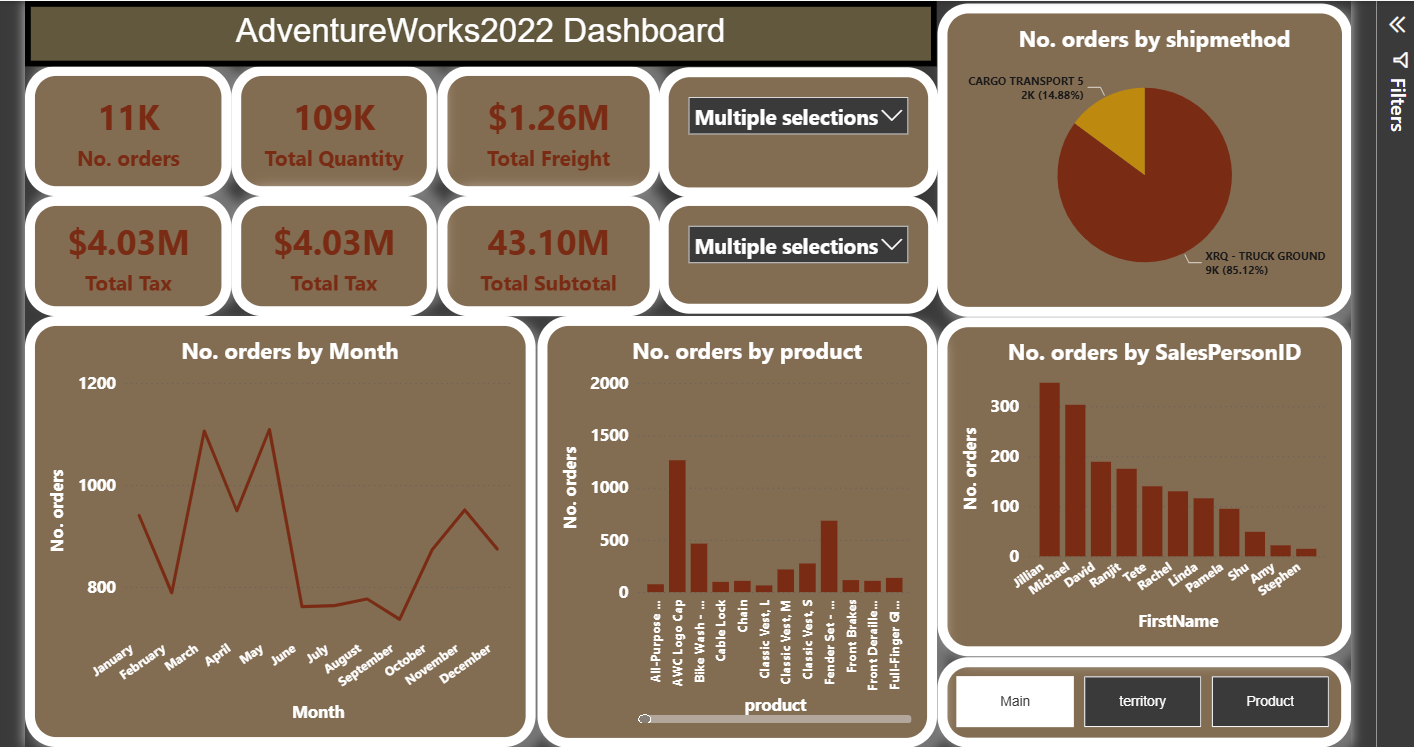

What the dashboard file says about the page in this screenshot:
{"tool":"powerbi","page":{"name":"Main","canvas":[1280,720],"ordinal":0},"visuals":[{"type":"card","fields":{"Values":["Mymeasures.Total Tax"]},"box":[0,188.3,199.4,115.7],"z":0},{"type":"card","fields":{"Values":["Mymeasures.No. orders"]},"box":[0,62.8,199.4,125.6],"z":1000},{"type":"card","fields":{"Values":["Mymeasures.Total Freight"]},"box":[397.6,62.8,214.2,125.6],"z":2000},{"type":"card","fields":{"Values":["Mymeasures.Total Quantity"]},"box":[199.4,62.8,198.2,125.6],"z":3000},{"type":"card","fields":{"Values":["Mymeasures.Total Subtotal"]},"box":[397.6,188.3,214.2,115.7],"z":4000},{"type":"card","fields":{"Values":["Mymeasures.Total Tax"]},"box":[199.4,188.3,198.2,115.7],"z":5000},{"type":"lineChart","fields":{"Y":["Mymeasures.No. orders"],"Category":["Dates.Date.Variation.Date Hierarchy.Month"]},"box":[0,304.1,492.4,416.1],"z":6000},{"type":"pieChart","fields":{"Y":["Mymeasures.No. orders"],"Category":["ShipMethod.shipmethod"]},"box":[880.3,2.6,399.9,302.2],"z":7000},{"type":"slicer","fields":{"Values":["Dates.Year"]},"box":[611.1,188.7,269.3,113.5],"z":8000},{"type":"slicer","fields":{"Values":["Territory.territory"]},"box":[611.1,63.4,269.3,125.4],"z":9000},{"type":"pageNavigator","box":[880.8,632.9,399.5,87.5],"z":10000},{"type":"columnChart","title":"No. orders by SalesPersonID","fields":{"Y":["Mymeasures.No. orders"],"Category":["vSalesPerson.FirstName"]},"box":[880.3,304.9,399.9,327.3],"z":11000},{"type":"textbox","box":[0,0,880.3,63.4],"z":12000},{"type":"columnChart","fields":{"Category":["Product.product Hierarchy.product","Product.product Hierarchy.ProductSubcategory.ProductCategory.category","Product.product Hierarchy.ProductSubcategory.Subcategory"],"Y":["Mymeasures.No. orders"]},"box":[494.9,303.6,385.4,417.1],"z":14000}]}

Visuals, with their boxes in screenshot pixels (x1, y1, x2, y2):
card - Mymeasures.Total Tax: (29,189,234,308)
card - Mymeasures.No. orders: (29,61,234,189)
card - Mymeasures.Total Freight: (437,61,656,189)
card - Mymeasures.Total Quantity: (234,61,437,189)
card - Mymeasures.Total Subtotal: (437,189,656,308)
card - Mymeasures.Total Tax: (234,189,437,308)
lineChart - Mymeasures.No. orders x Dates.Date.Variation.Date Hierarchy.Month: (29,308,534,734)
pieChart - Mymeasures.No. orders x ShipMethod.shipmethod: (931,0,1340,308)
slicer - Dates.Year: (655,190,931,306)
slicer - Territory.territory: (655,61,931,190)
pageNavigator: (931,644,1340,734)
"No. orders by SalesPersonID" columnChart: (931,308,1340,644)
textbox: (29,0,931,61)
columnChart - Product.product Hierarchy.product x Product.product Hierarchy.ProductSubcategory.ProductCategory.category: (536,307,931,734)
